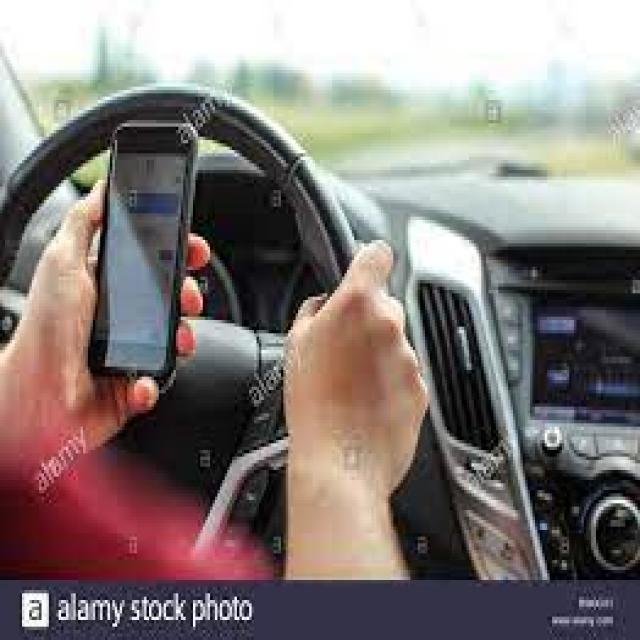Cellphone_texting: (27, 110, 215, 460)
